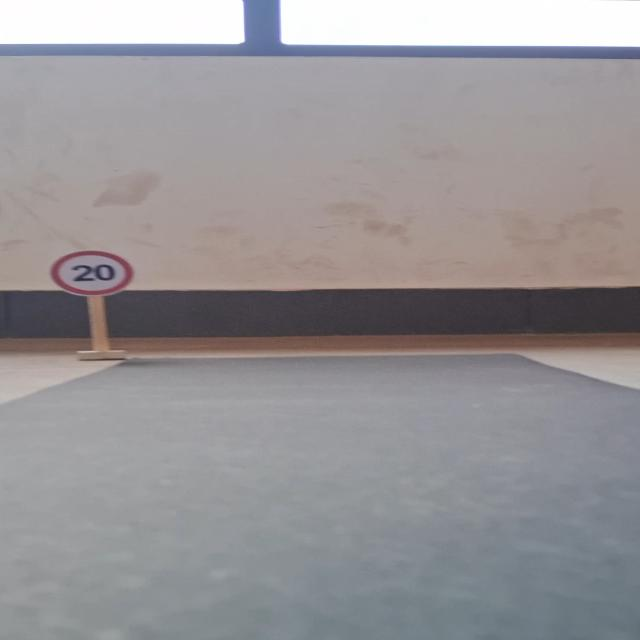Speed20: (40, 246, 140, 301)
